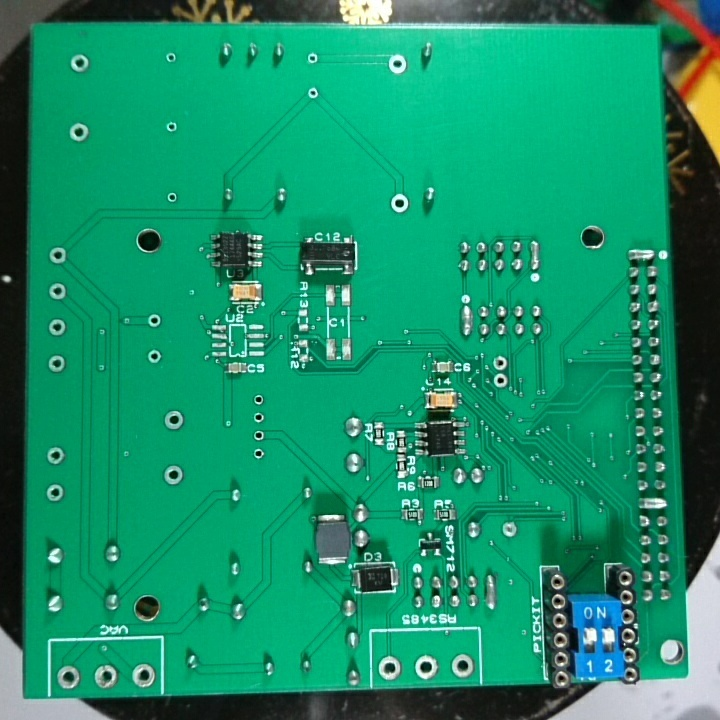F: (410, 653, 441, 683), (92, 661, 121, 692), (130, 660, 158, 692), (376, 652, 404, 682), (383, 49, 411, 78), (446, 652, 476, 679), (55, 663, 82, 691), (162, 407, 188, 435), (388, 190, 413, 219), (43, 443, 69, 469), (67, 120, 93, 146), (67, 50, 93, 76), (44, 480, 69, 507), (47, 278, 69, 306), (45, 245, 70, 269), (45, 350, 68, 375), (47, 315, 69, 340), (499, 519, 521, 542), (161, 462, 184, 484), (491, 368, 512, 392), (146, 309, 164, 333), (304, 83, 324, 102), (250, 443, 268, 464), (146, 346, 164, 366), (163, 117, 181, 137), (250, 424, 267, 443), (490, 354, 510, 370), (250, 391, 267, 408), (304, 49, 321, 66), (250, 410, 268, 426), (164, 189, 180, 206), (162, 49, 178, 66)
P: (483, 571, 502, 615), (626, 246, 659, 264), (635, 495, 668, 512), (459, 303, 474, 340), (529, 238, 541, 275)
